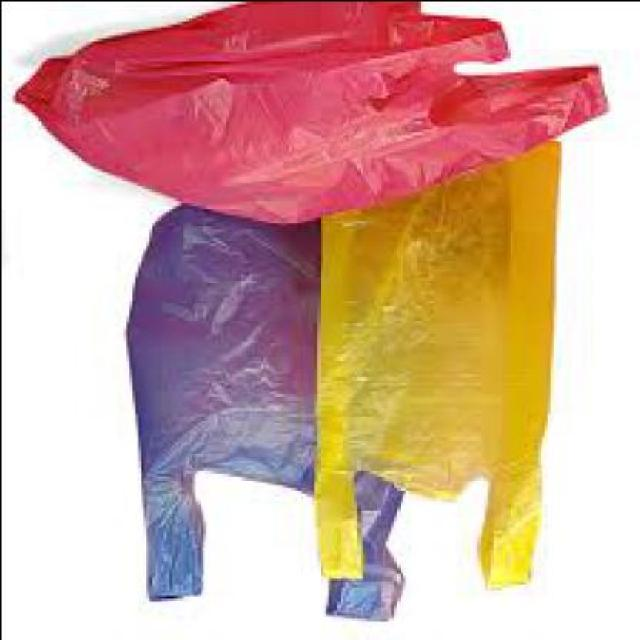PLASTIC: (8, 3, 606, 228), (119, 208, 401, 623), (310, 140, 558, 588)
